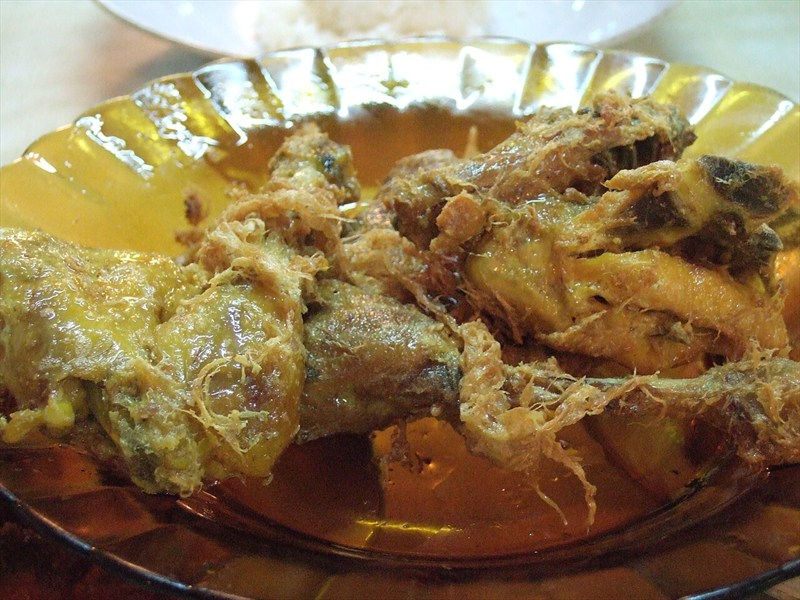Ayam Goreng: (92, 19, 708, 416)
